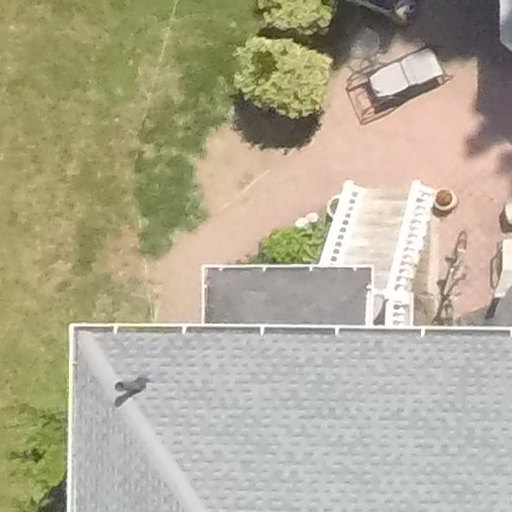container: (427, 186, 464, 217), (327, 190, 347, 224)
